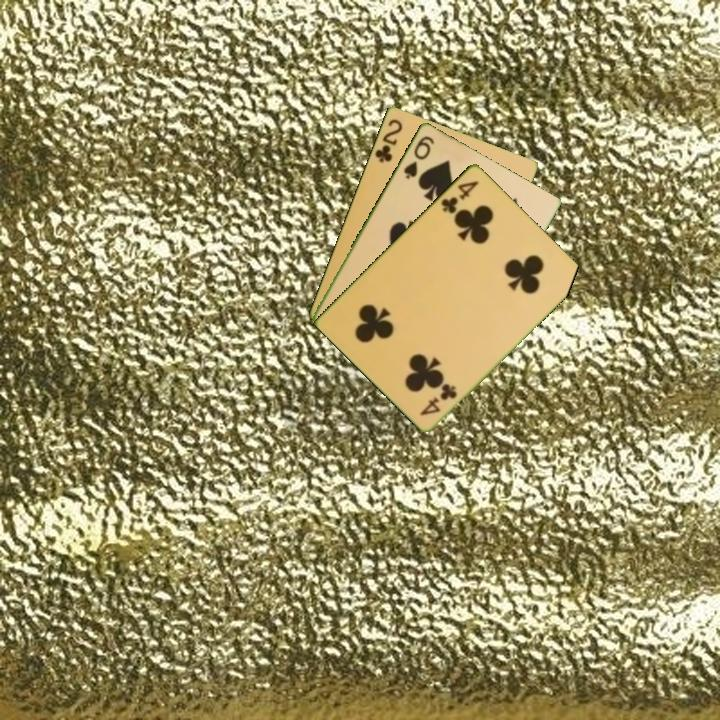2c: (371, 115, 405, 165)
4c: (437, 177, 482, 216), (416, 380, 460, 418)
6s: (400, 132, 437, 182)
